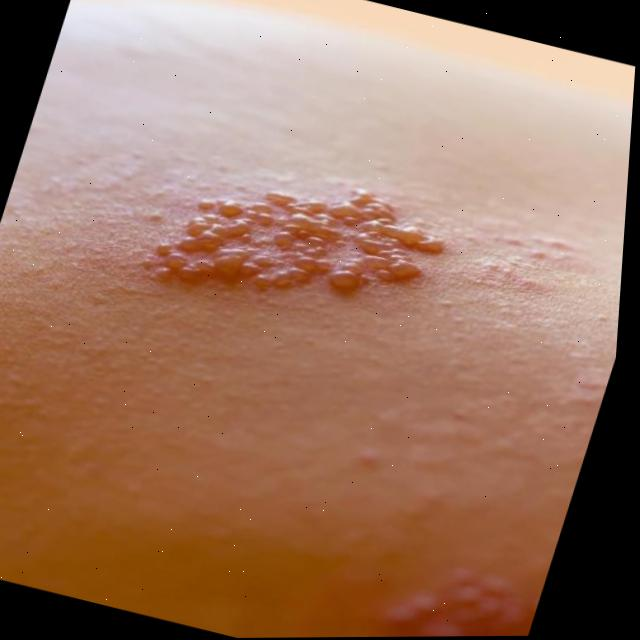Shingles: (119, 140, 460, 348), (375, 554, 533, 637)
